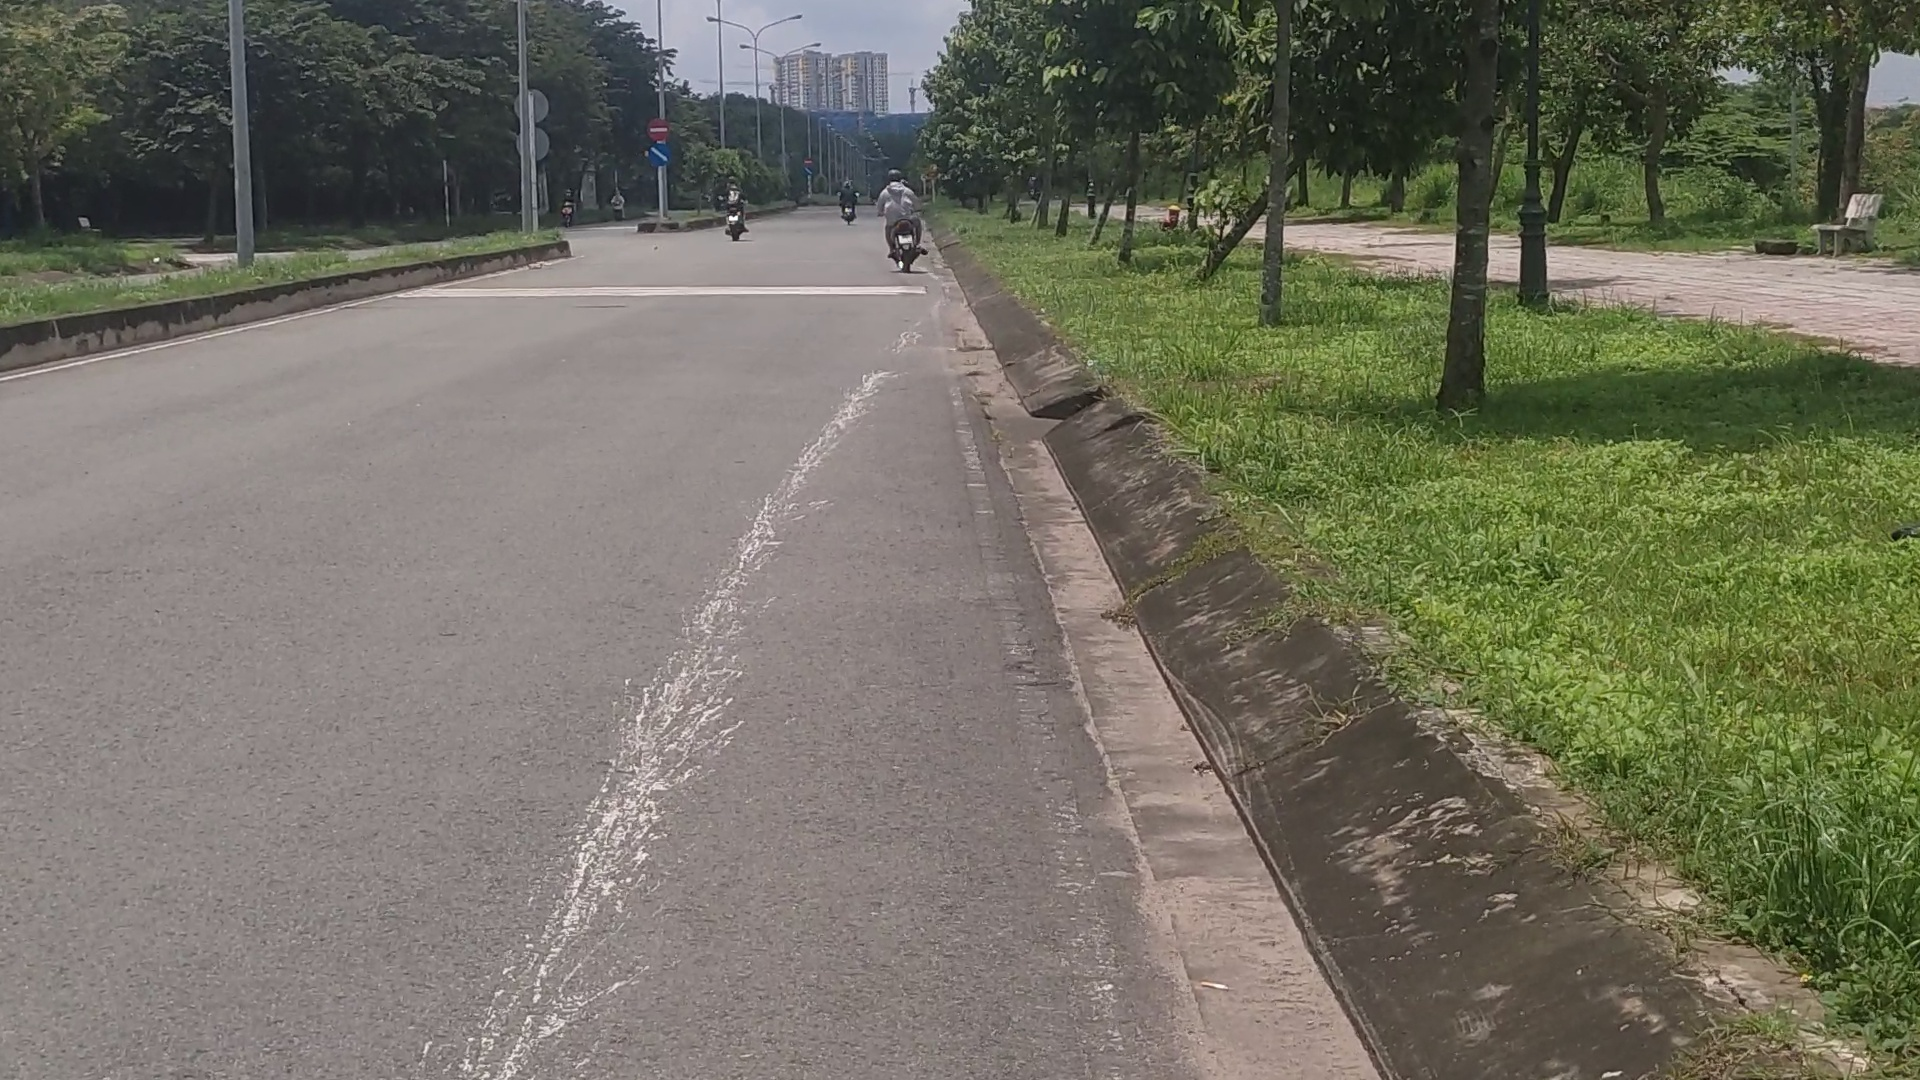P.102: (647, 117, 670, 140)
R.302a: (650, 142, 673, 166)
